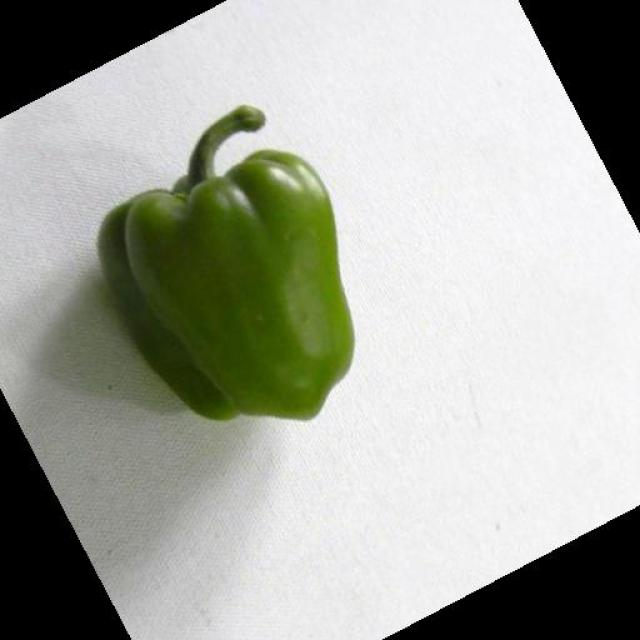Fresh_Capsicum: (110, 109, 439, 428)
